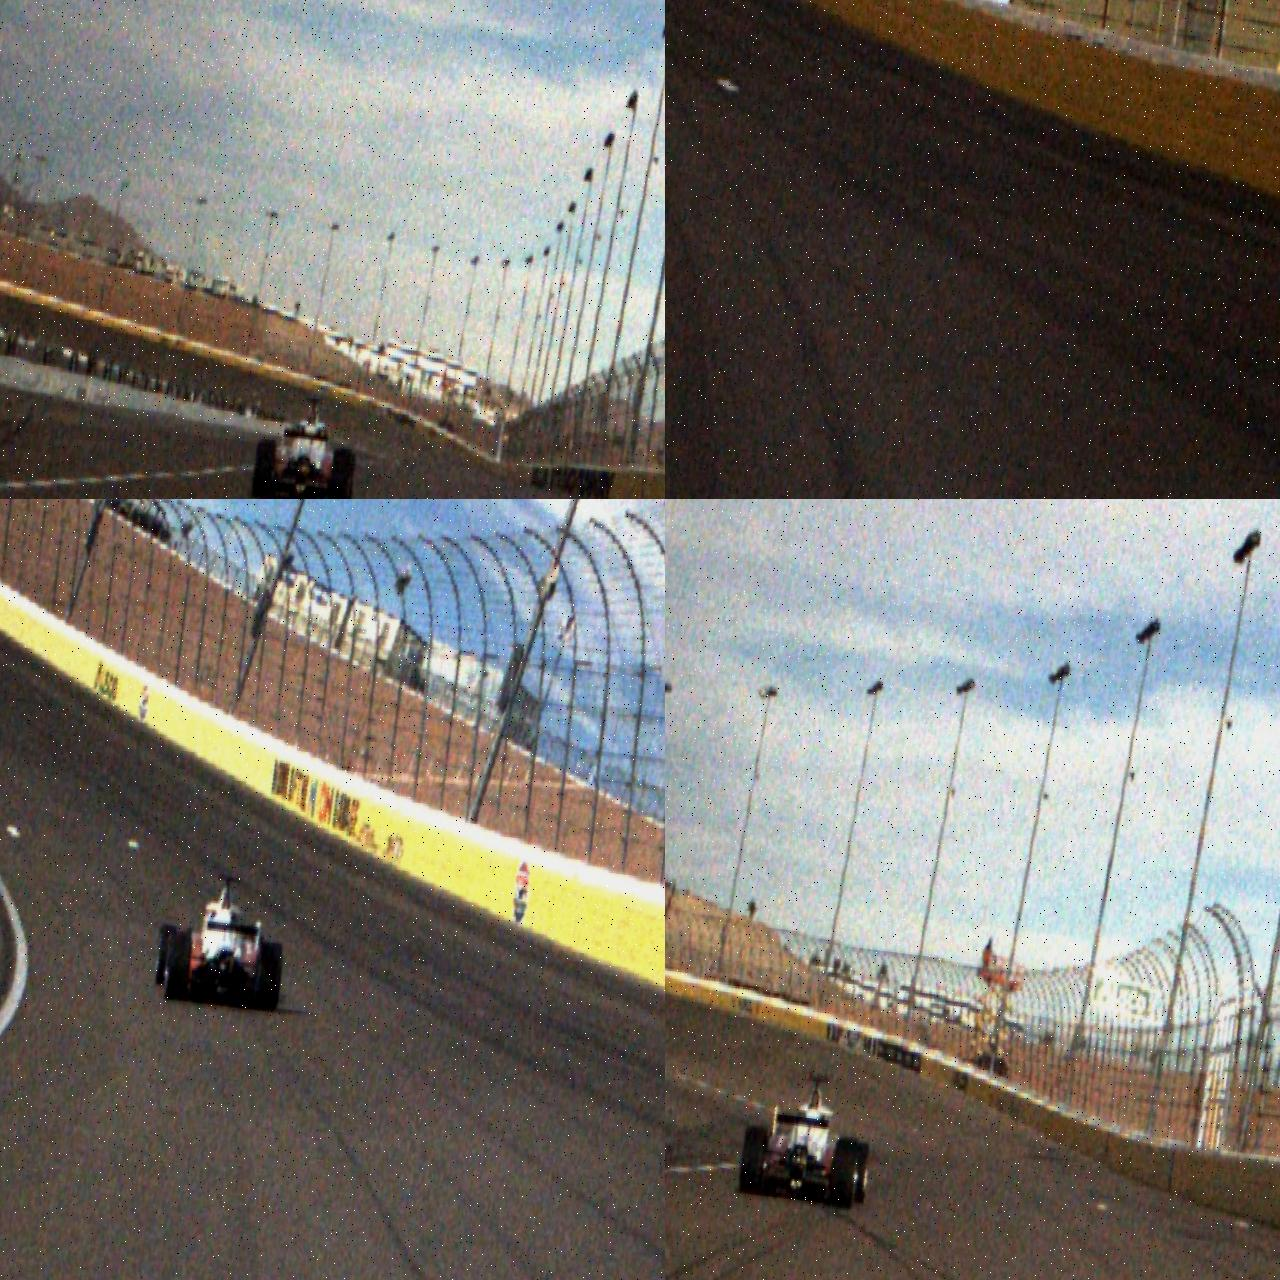AV: (738, 1065, 879, 1210), (152, 868, 292, 1013), (250, 389, 365, 499)
Wheel: (828, 1136, 861, 1208), (162, 930, 194, 1002), (738, 1124, 769, 1196), (254, 941, 285, 1012), (846, 1142, 872, 1204), (250, 438, 276, 499), (154, 924, 178, 986), (327, 448, 354, 499)
